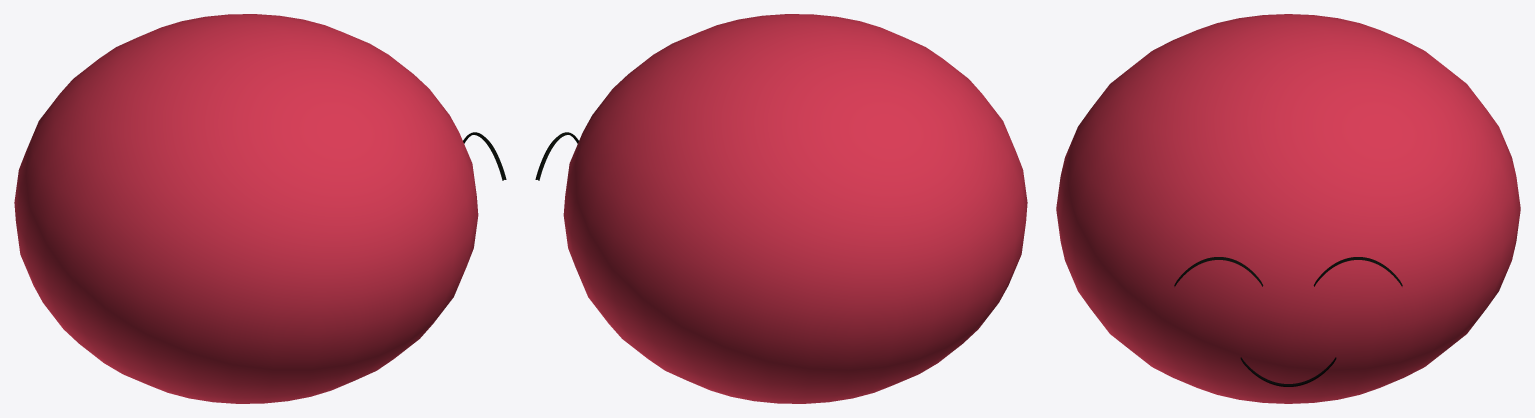
File: red.dae
3 renders of one model, left to right at view 1: azimuth 30°, elevation 25°; view 2: azimuth 150°, elevation 25°; view 3: azimuth 270°, elevation 25°, orthographic.
Visible parts, largest first — view 1: Sphere; view 2: Sphere; view 3: Sphere.
Boxes of the visible parts, x1,y1,x2,y2 form: Sphere: (14,14,478,403); Sphere: (563,14,1027,403); Sphere: (1056,14,1520,403).
Size of the model in its own units: 2.01 by 2 by 1.6.
